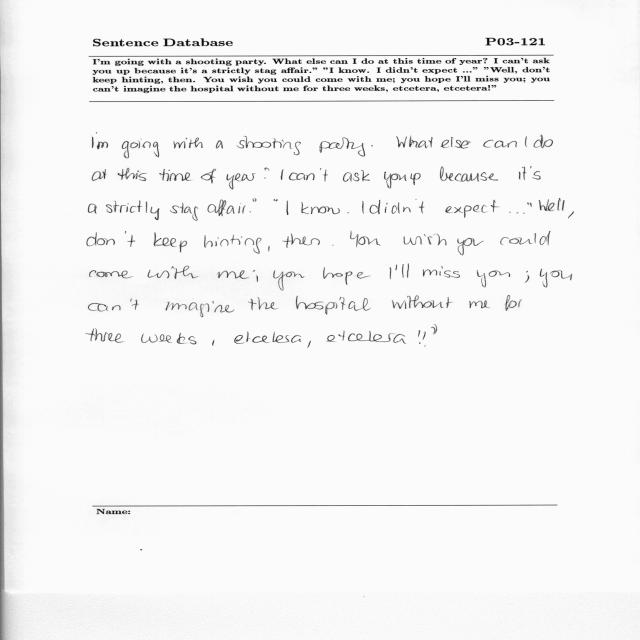word: (296, 296, 370, 315), (237, 136, 301, 155), (327, 330, 407, 344), (204, 235, 262, 254), (166, 301, 234, 317), (106, 201, 159, 220), (446, 200, 500, 218), (440, 166, 498, 182), (319, 138, 365, 157), (234, 331, 301, 344), (323, 267, 371, 285), (392, 295, 452, 309), (370, 199, 425, 214), (87, 231, 135, 247), (500, 231, 550, 245), (207, 200, 246, 217), (88, 299, 139, 312), (154, 233, 187, 253), (148, 266, 198, 279), (274, 271, 305, 291), (540, 269, 572, 288), (141, 333, 196, 344), (282, 233, 320, 248), (86, 328, 124, 343), (477, 270, 510, 287), (130, 139, 159, 158), (289, 168, 328, 182), (97, 141, 129, 158), (170, 203, 198, 221), (350, 231, 381, 247), (404, 234, 447, 245), (301, 202, 340, 214), (227, 174, 256, 190), (457, 238, 484, 255), (396, 136, 433, 148), (423, 266, 460, 278), (159, 169, 192, 181), (384, 172, 407, 189), (248, 297, 278, 310), (90, 270, 133, 279), (118, 168, 147, 181), (539, 198, 565, 211), (441, 137, 471, 148), (343, 170, 370, 182), (174, 138, 203, 149), (217, 270, 249, 279), (483, 140, 517, 148), (505, 295, 522, 311), (534, 135, 553, 148), (201, 169, 216, 183), (395, 264, 409, 278), (93, 169, 107, 181), (469, 301, 490, 309), (530, 167, 541, 180), (418, 330, 426, 347), (410, 173, 421, 185), (519, 166, 527, 180), (88, 204, 97, 214), (92, 132, 97, 148), (253, 270, 258, 282), (431, 325, 437, 335), (216, 141, 223, 149), (265, 168, 270, 179), (525, 271, 529, 283), (568, 212, 574, 219), (509, 212, 525, 214), (287, 200, 289, 215), (307, 341, 311, 348), (362, 201, 364, 214), (525, 137, 527, 148), (281, 169, 283, 180), (253, 198, 256, 202), (268, 246, 270, 252), (390, 267, 391, 279), (212, 340, 214, 346), (274, 199, 278, 201), (530, 203, 532, 207), (527, 202, 529, 205), (371, 145, 373, 146), (347, 212, 349, 213), (250, 212, 251, 213), (332, 245, 334, 245)
